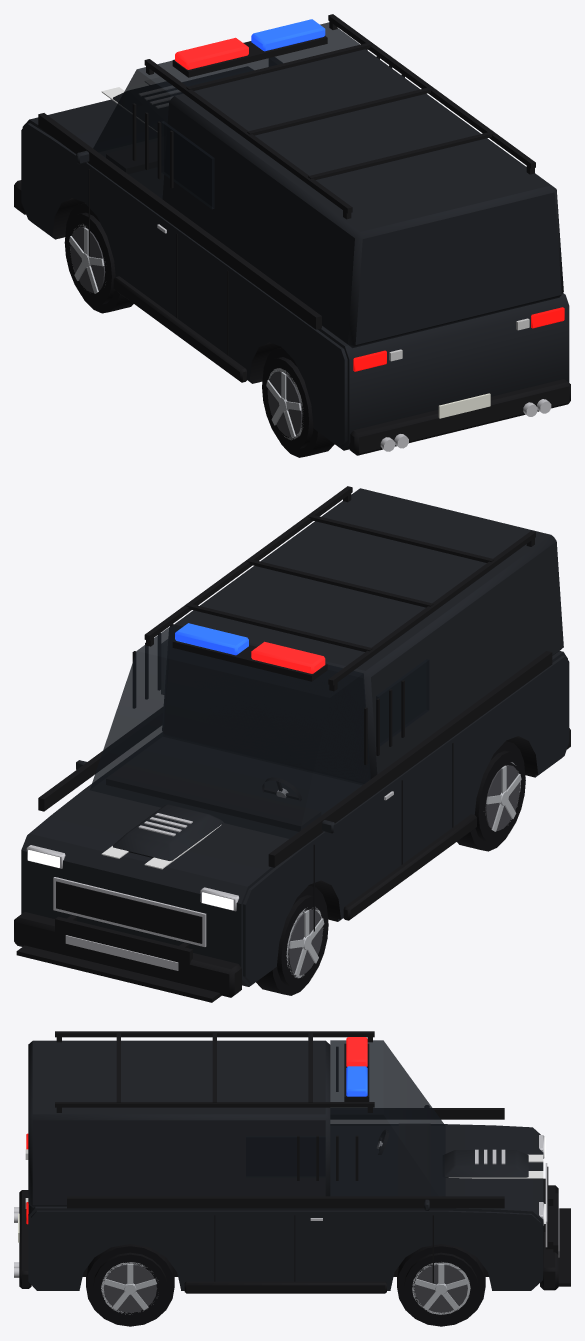
The model's file is swat.glb.
The picture shows the model from 3 angles, top to bottom: view 1: azimuth 30°, elevation 25°; view 2: azimuth 150°, elevation 25°; view 3: azimuth 270°, elevation 25°; orthographic projection. The views are drawn at different scales.
Visible parts, largest first — view 1: Body.011, Mod_roof_1.009, Wheel_RL.011, Wheel_FL.011, Mod_skirts_1.011, Mod_hood_1.011, Mod_exhaust_2.011; view 2: Body.011, Mod_roof_1.009, Mod_bumper_1.011, Mod_grille_2.011, Wheel_FL.011, Wheel_RL.011, Mod_hood_1.011, Mod_grille_1.011, Mod_bumper_2.011, Mod_skirts_1.011; view 3: Body.011, Wheel_RR.011, Wheel_FR.011, Mod_roof_1.009, Mod_skirts_1.011, Mod_hood_1.011, Mod_bumper_1.011, Mod_bumper_2.011, Mod_livery_1.011.
Part boxes in pixels (x1,y1,x2,y2): Body.011: [21, 19, 570, 455]; Mod_roof_1.009: [144, 14, 535, 219]; Wheel_RL.011: [262, 347, 334, 457]; Wheel_FL.011: [64, 203, 133, 313]; Mod_skirts_1.011: [113, 276, 246, 382]; Mod_hood_1.011: [113, 82, 182, 130]; Mod_exhaust_2.011: [380, 399, 551, 451]; Body.011: [21, 488, 570, 986]; Mod_roof_1.009: [144, 486, 535, 691]; Mod_bumper_1.011: [14, 912, 241, 997]; Mod_grille_2.011: [53, 877, 206, 946]; Wheel_FL.011: [256, 885, 328, 995]; Wheel_RL.011: [457, 741, 525, 851]; Mod_hood_1.011: [113, 804, 223, 860]; Mod_grille_1.011: [64, 882, 193, 942]; Mod_bumper_2.011: [16, 945, 221, 1002]; Mod_skirts_1.011: [343, 814, 476, 920]; Body.011: [18, 1037, 558, 1290]; Wheel_RR.011: [86, 1244, 174, 1326]; Wheel_FR.011: [397, 1244, 485, 1326]; Mod_roof_1.009: [55, 1031, 374, 1112]; Mod_skirts_1.011: [184, 1281, 386, 1293]; Mod_hood_1.011: [442, 1150, 528, 1177]; Mod_bumper_1.011: [540, 1185, 559, 1290]; Mod_bumper_2.011: [558, 1208, 570, 1286]; Mod_livery_1.011: [449, 1154, 543, 1178].
Bounding box in the file's own units: 2.64 × 2.78 × 6.27.
